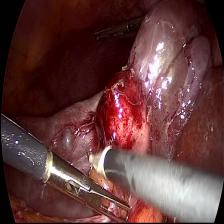Grasper: (48, 155, 131, 224), (88, 20, 132, 44)
Hook: (84, 139, 121, 184)
